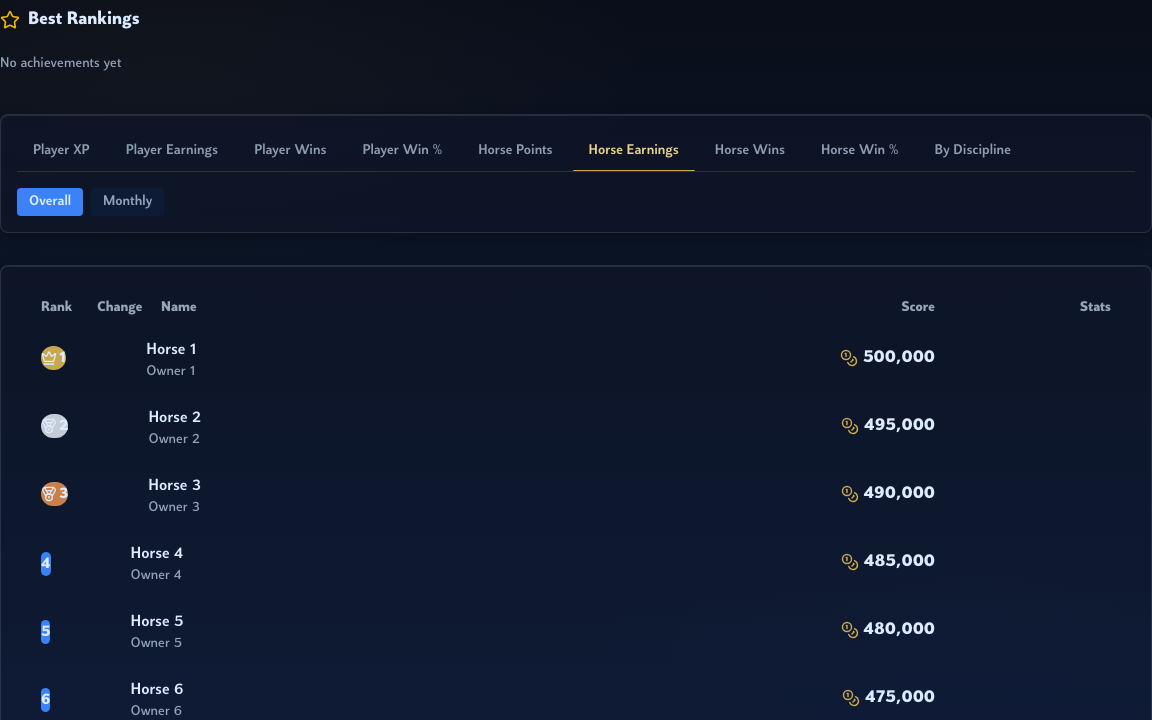
it: LeaderboardsPage — horse detail modal (Equoria-ffmha, Equoria-b9yi1) › shows an error with retry (not the bare "not available" empty) when the profile fails
The width and height of the screenshot is (1152, 720).
(page scrolled)
Click the row with test id "leaderboard-entry" showing "1 Horse 1 Owner 1 500,000".
click(172, 350)  # box [41,342,935,379]
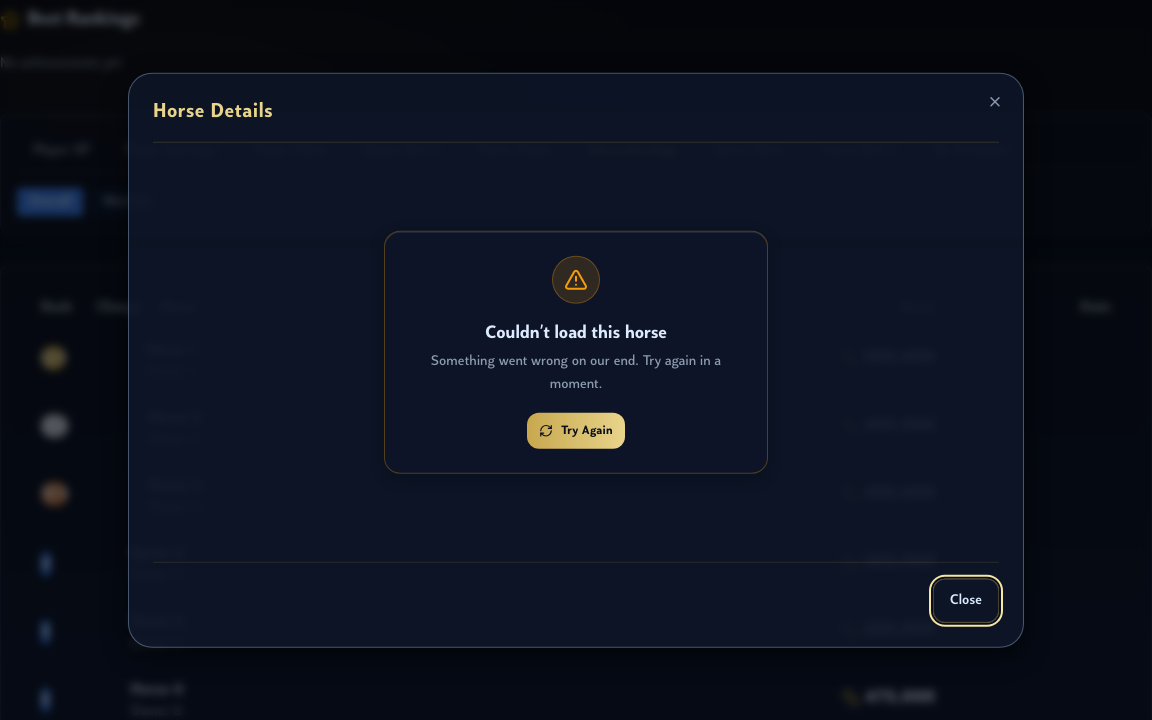
Result: the message is shown at [384,231,768,473]
Click the button "Try Again".
click(576, 430)  # box [527,412,625,448]
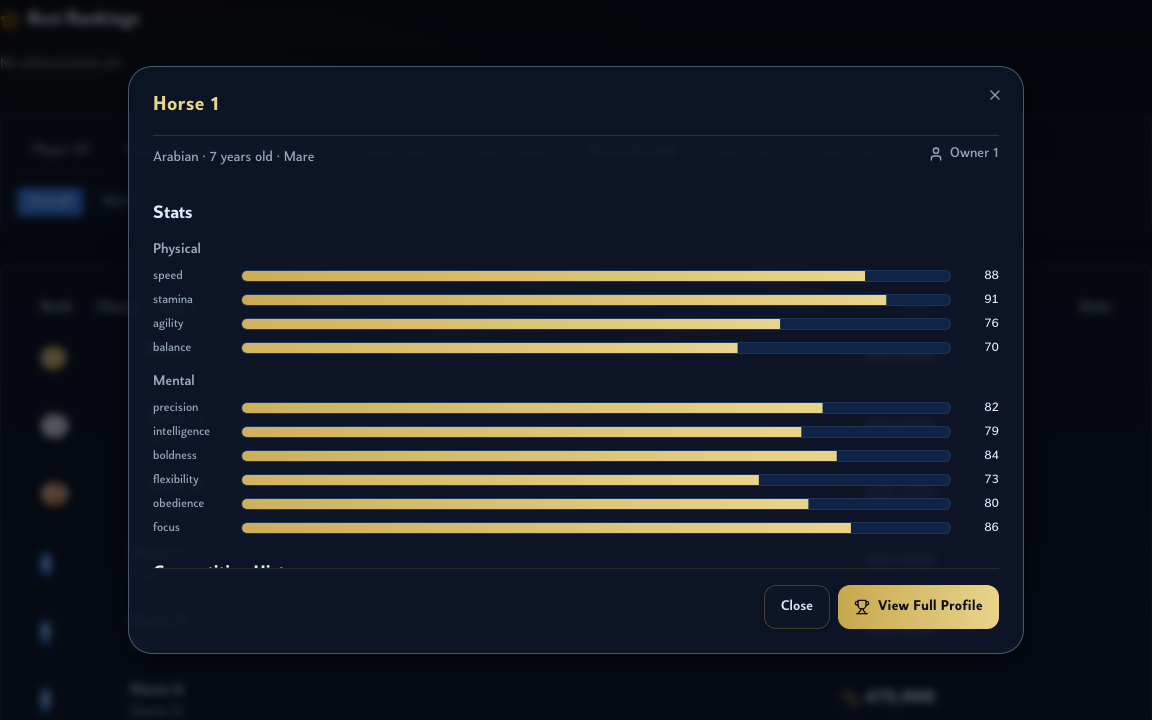
Result: the text "Arabian · 7 years old · Mare" is shown at [153,150,314,165]
